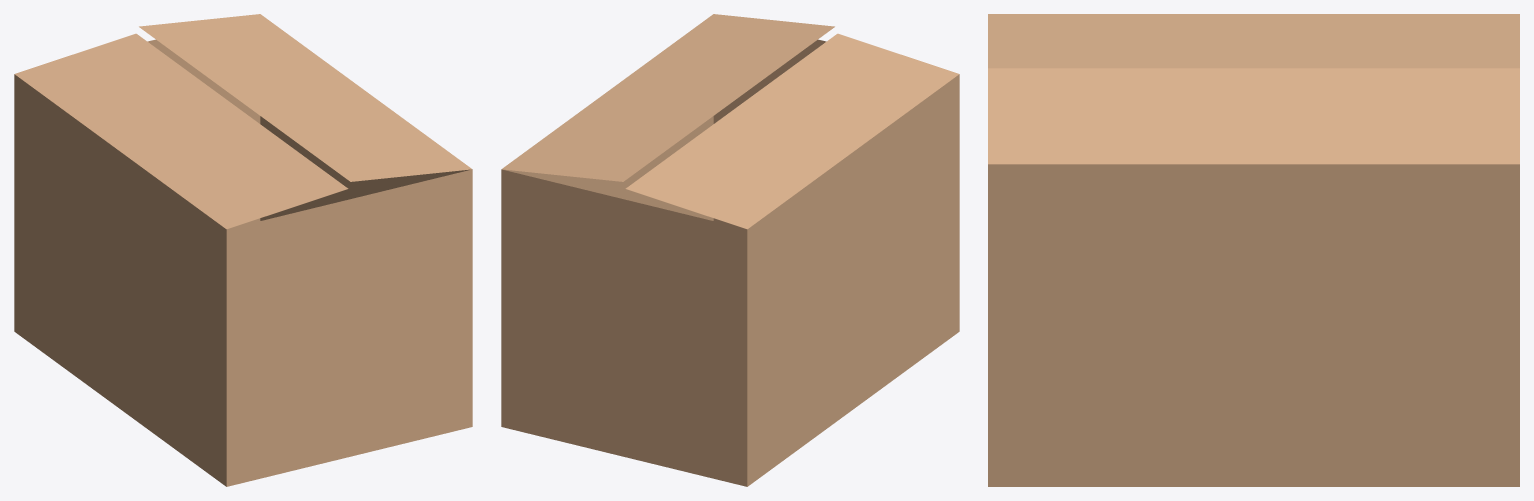
3 views of the same model, side by side, from view 1: azimuth 30°, elevation 25°; view 2: azimuth 150°, elevation 25°; view 3: azimuth 270°, elevation 25° (orthographic). The views are drawn at different scales.
Visible parts, largest first — view 1: box; view 2: box; view 3: box.
Part boxes in pixels (bbox=[...]): box: bbox=[14, 14, 472, 486]; box: bbox=[501, 14, 959, 486]; box: bbox=[988, 14, 1519, 486].
Bounding box in the file's own units: 40 × 42.67 × 59.75.
